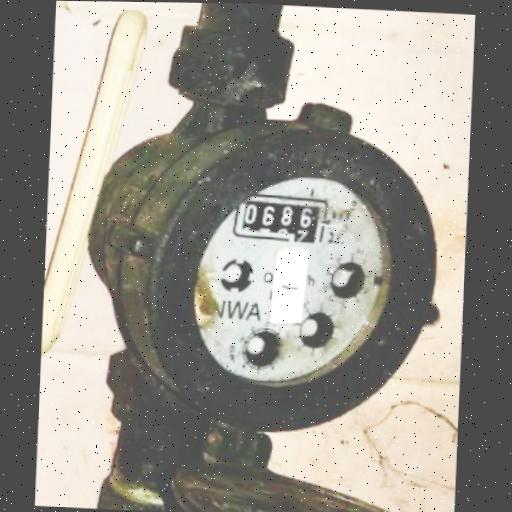0: (240, 200, 260, 232)
6: (293, 203, 319, 244), (255, 199, 277, 234)
8: (273, 202, 297, 235)
border_water_meter_number: (229, 190, 327, 244)
